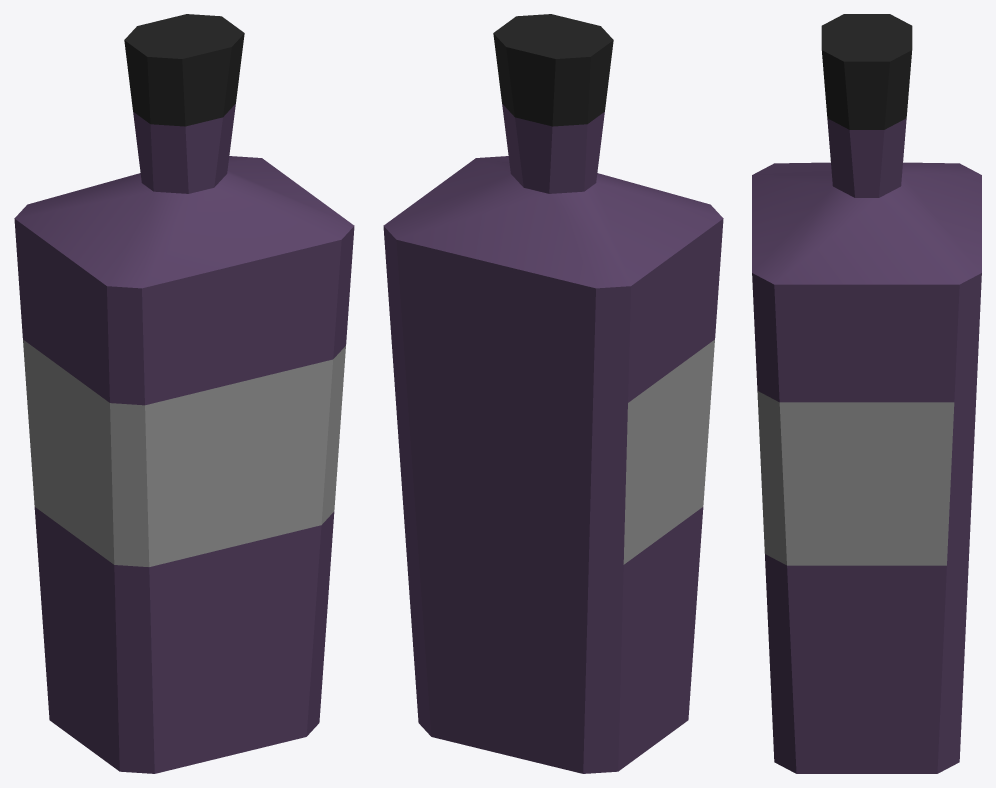
File: booze.fbx
The picture shows the model from 3 angles, left to right: view 1: azimuth 30°, elevation 25°; view 2: azimuth 150°, elevation 25°; view 3: azimuth 270°, elevation 25°; orthographic projection.
Parts seen in each view (by area): view 1: Booze; view 2: Booze; view 3: Booze.
Part boxes in pixels (x1=…): Booze: x1=14, y1=14, x2=354, y2=773; Booze: x1=383, y1=14, x2=723, y2=773; Booze: x1=752, y1=14, x2=981, y2=773.
Size of the model in its own units: 17.61 by 14.11 by 46.55.
